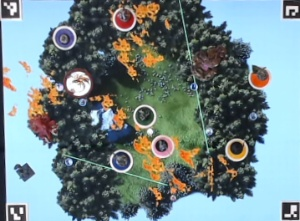blue: (107, 147, 134, 174)
green: (132, 102, 157, 129)
orange: (248, 65, 272, 88)
pink: (149, 133, 173, 156)
red: (110, 6, 139, 32)
violet: (51, 24, 77, 50)
yellow: (224, 135, 248, 161)
